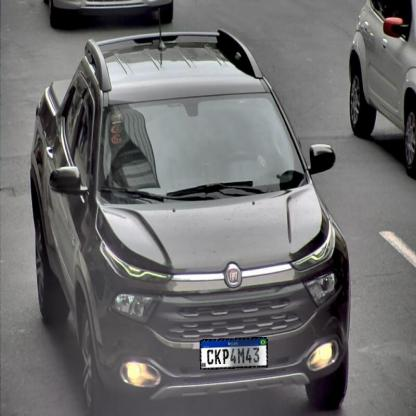PlacaM: (199, 337, 268, 370)
